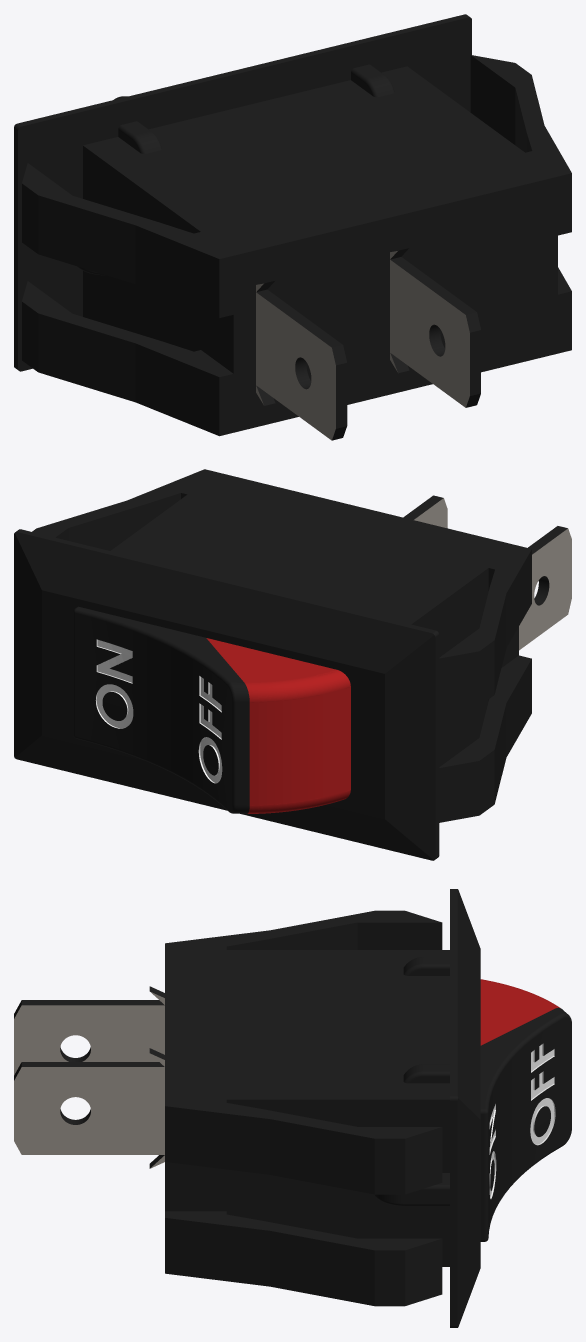
Rendered from 70182-switch.dae.
3 views of the same model, one above another, from view 1: azimuth 30°, elevation 25°; view 2: azimuth 150°, elevation 25°; view 3: azimuth 270°, elevation 25° (orthographic). The views are drawn at different scales.
Parts seen in each view (by area): view 1: node_9db1d767_f4c7_4efa_be68_c7c93e98e9ea_mesh0, node_9db1d767_f4c7_4efa_be68_c7c93e98e9ea_mesh1; view 2: node_9db1d767_f4c7_4efa_be68_c7c93e98e9ea_mesh0, node_9db1d767_f4c7_4efa_be68_c7c93e98e9ea_mesh3, node_9db1d767_f4c7_4efa_be68_c7c93e98e9ea_mesh1, node_9db1d767_f4c7_4efa_be68_c7c93e98e9ea_mesh2; view 3: node_9db1d767_f4c7_4efa_be68_c7c93e98e9ea_mesh0, node_9db1d767_f4c7_4efa_be68_c7c93e98e9ea_mesh1, node_9db1d767_f4c7_4efa_be68_c7c93e98e9ea_mesh3, node_9db1d767_f4c7_4efa_be68_c7c93e98e9ea_mesh2.
Boxes of the visible parts, <box> form: node_9db1d767_f4c7_4efa_be68_c7c93e98e9ea_mesh0: <box>14,14,571,440</box>; node_9db1d767_f4c7_4efa_be68_c7c93e98e9ea_mesh1: <box>256,251,469,440</box>; node_9db1d767_f4c7_4efa_be68_c7c93e98e9ea_mesh0: <box>14,469,567,860</box>; node_9db1d767_f4c7_4efa_be68_c7c93e98e9ea_mesh3: <box>206,638,350,813</box>; node_9db1d767_f4c7_4efa_be68_c7c93e98e9ea_mesh1: <box>414,498,571,650</box>; node_9db1d767_f4c7_4efa_be68_c7c93e98e9ea_mesh2: <box>95,639,222,783</box>; node_9db1d767_f4c7_4efa_be68_c7c93e98e9ea_mesh0: <box>14,889,571,1327</box>; node_9db1d767_f4c7_4efa_be68_c7c93e98e9ea_mesh1: <box>14,991,164,1168</box>; node_9db1d767_f4c7_4efa_be68_c7c93e98e9ea_mesh3: <box>480,979,559,1045</box>; node_9db1d767_f4c7_4efa_be68_c7c93e98e9ea_mesh2: <box>489,1043,555,1198</box>.
Bounding box in the file's own units: 35 × 36.22 × 16.6.
